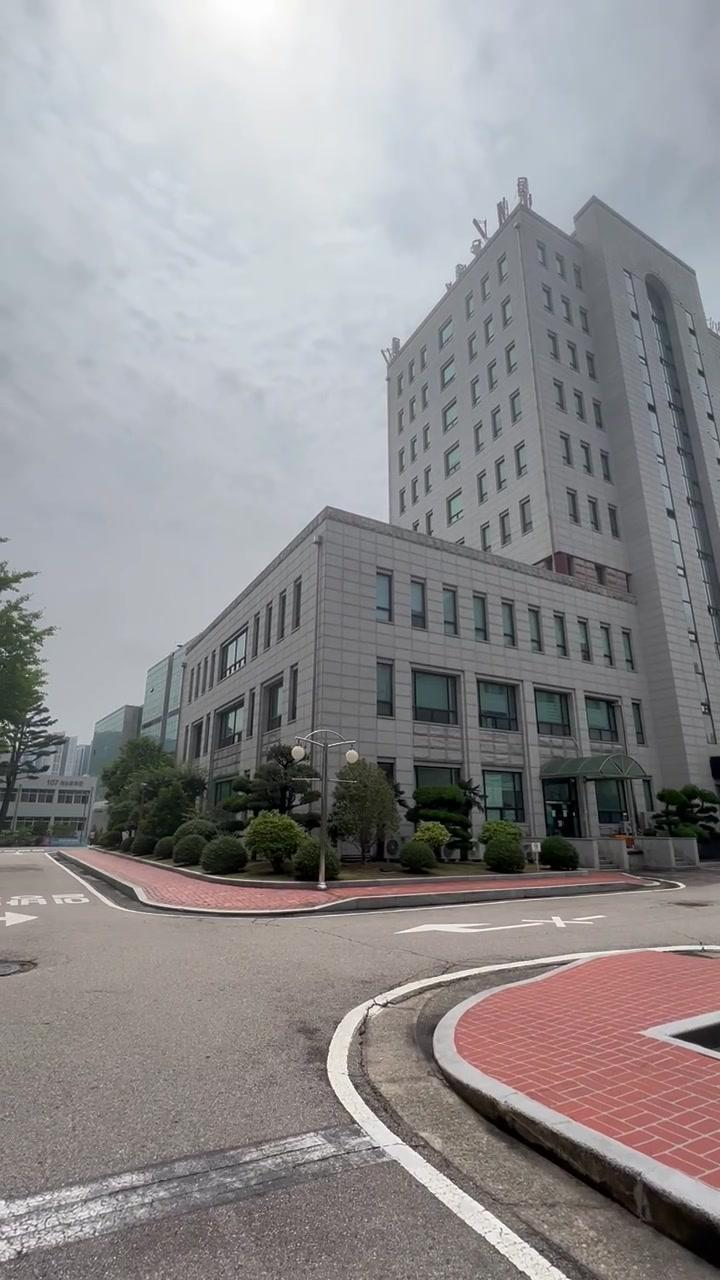building: (194, 220, 720, 724)
